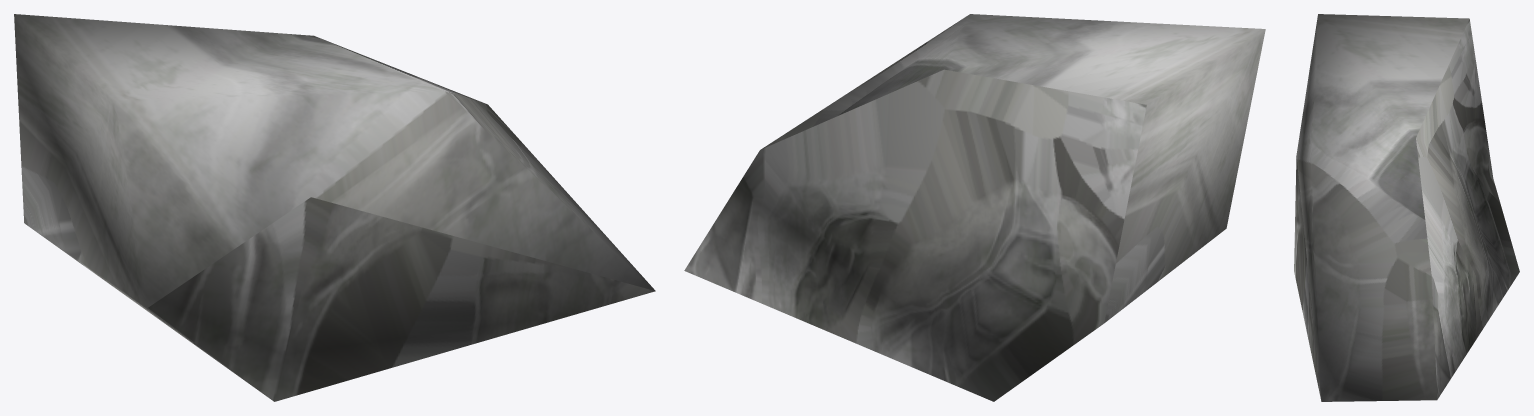
File: 10_R_Chica_LOD_1.fbx
3 renders of one model, left to right at view 1: azimuth 30°, elevation 25°; view 2: azimuth 150°, elevation 25°; view 3: azimuth 270°, elevation 25°, orthographic. The views are drawn at different scales.
Visible parts, largest first — view 1: 10_R_Chica_LOD_1; view 2: 10_R_Chica_LOD_1; view 3: 10_R_Chica_LOD_1.
Part boxes in pixels (x1,y1,x2,y2): 10_R_Chica_LOD_1: (14, 14, 655, 401); 10_R_Chica_LOD_1: (684, 14, 1265, 401); 10_R_Chica_LOD_1: (1294, 14, 1519, 401).
Bounding box in the file's own units: 1957 × 1121 × 1072.
